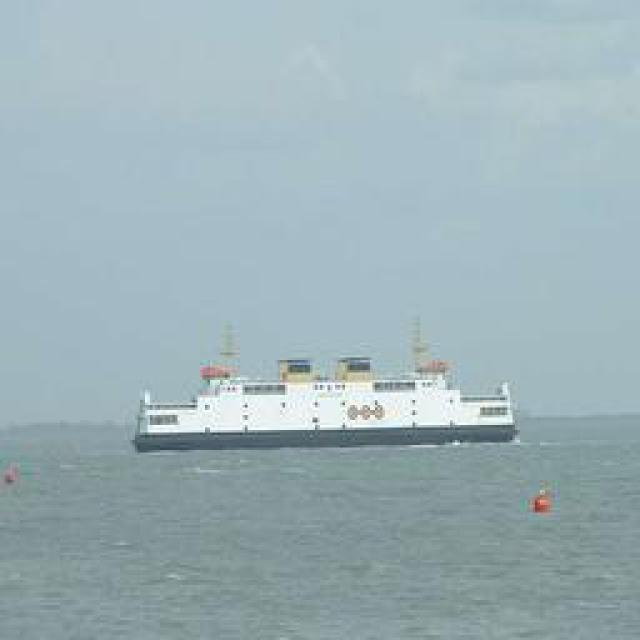Ship: (135, 322, 518, 455)
